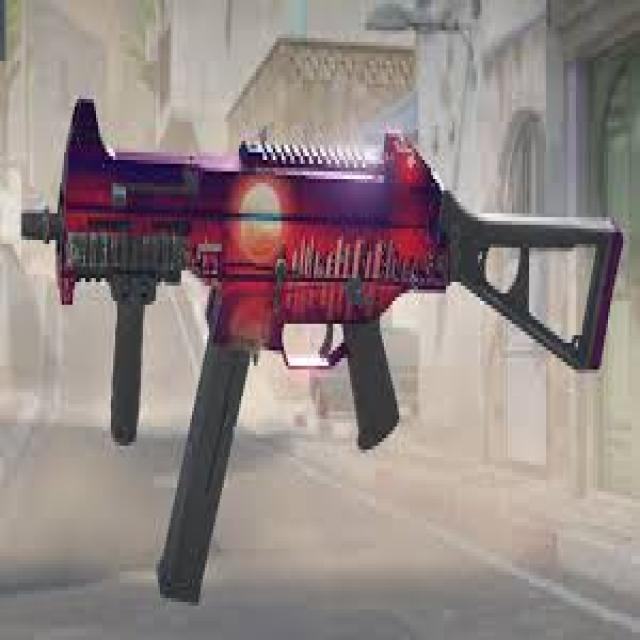Gun: (26, 105, 639, 598)
